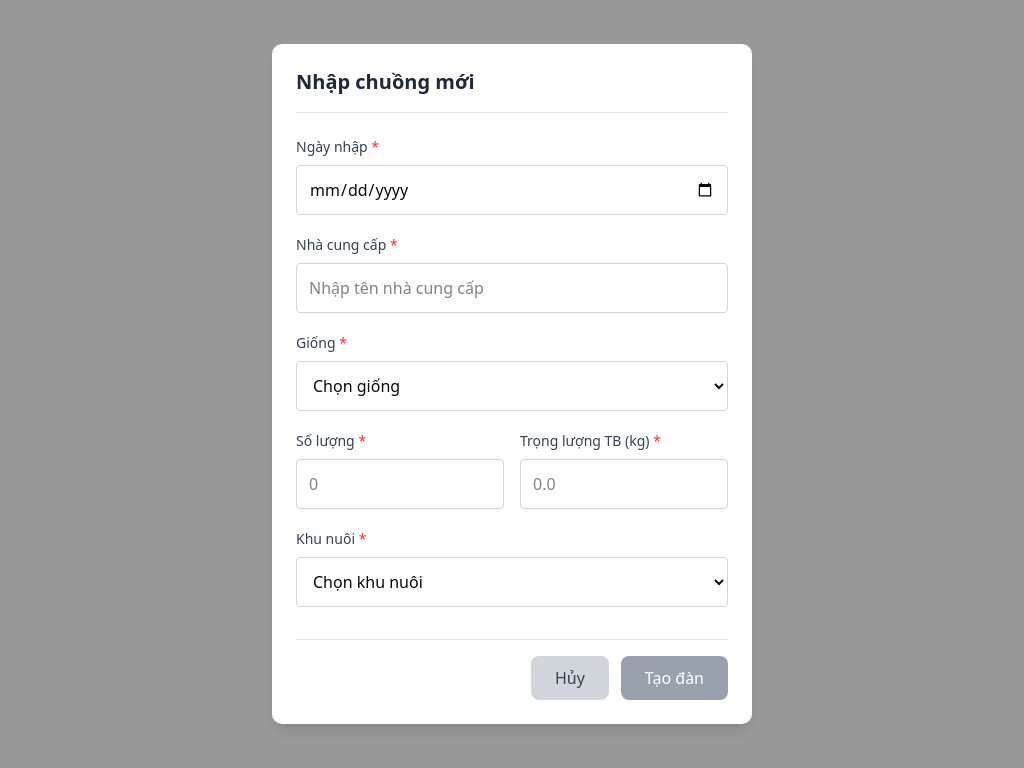
it: U5.2 - Form Nhập chuồng mới & U5.5 - Chỉnh sửa › TC6 - Hiển thị lỗi khi vượt quá sức chứa khu nuôi
Expected: the dropdown below "Giống" is shown, [296, 361, 728, 411]
# Tìm tất cả combobox và lấy cái cuối (khu nuôi)
Select "Khu A (Tối đa: 10000, Còn trống: 7000)" in the dropdown below "Khu nuôi". click: (512, 582)
box: [296, 557, 728, 607]
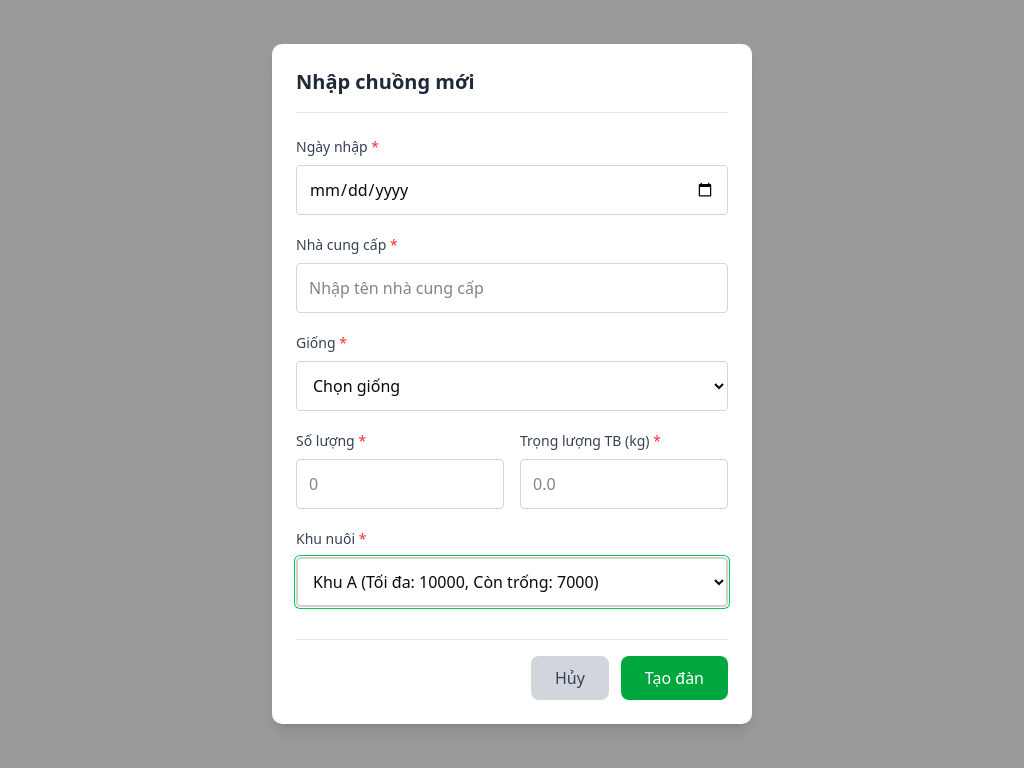
Type "8000" into the number field with placeholder "0". click: (400, 484)
box: [296, 459, 504, 509]
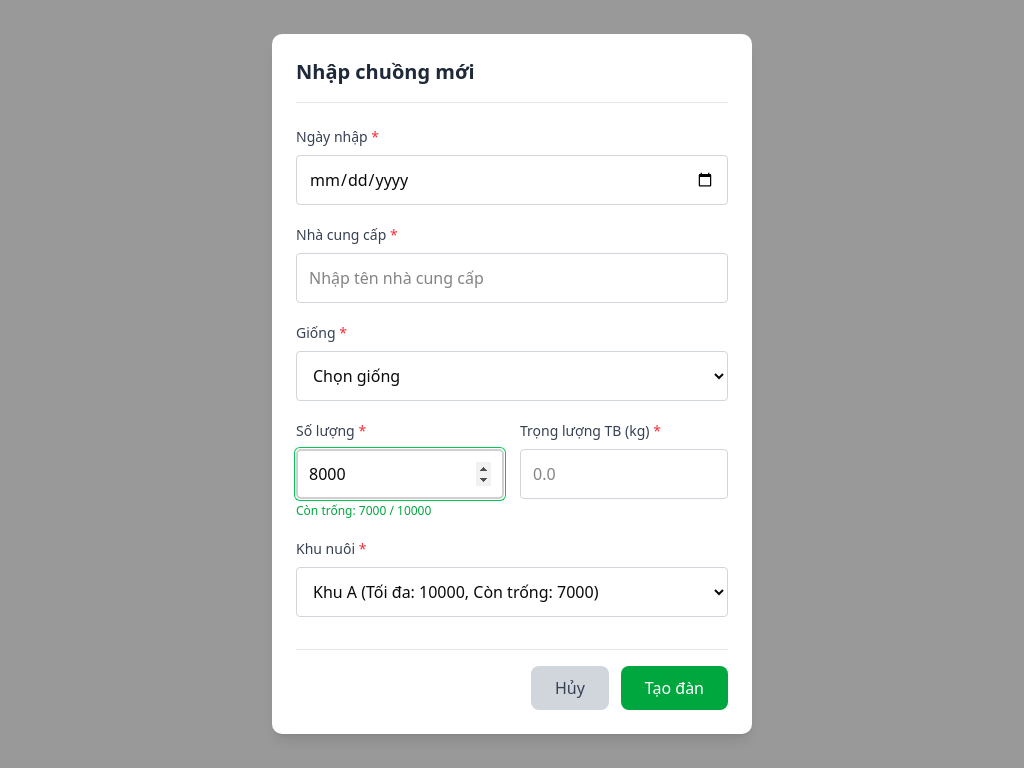
Press Tab
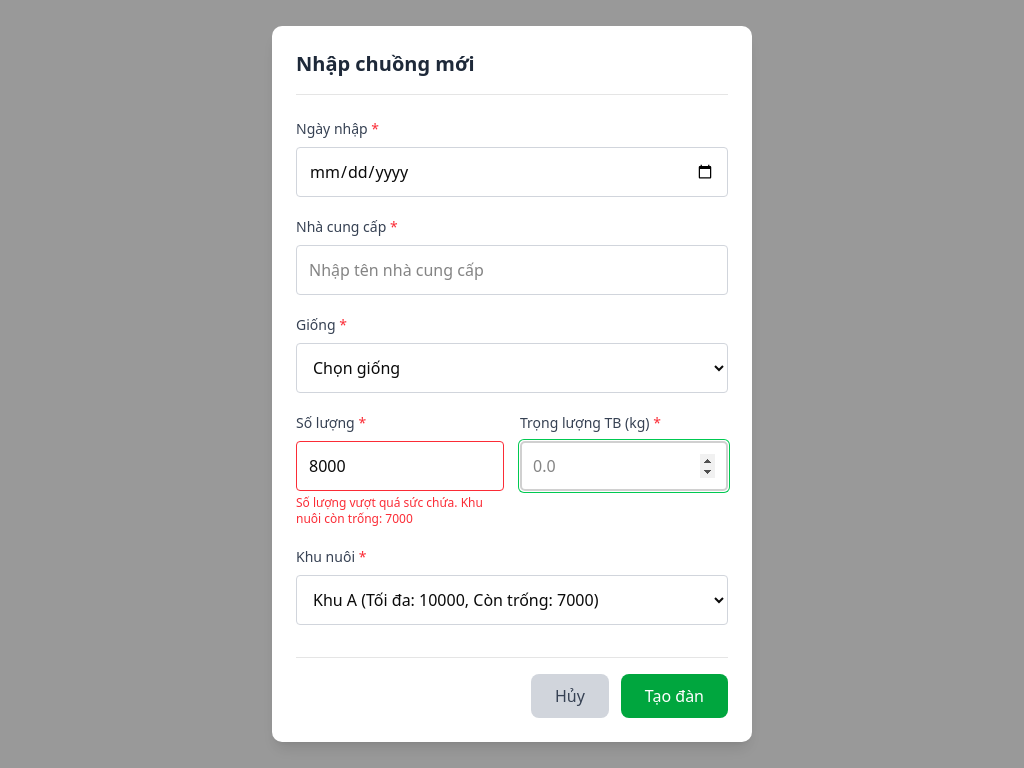
Result: the text "Số lượng vượt quá sức chứa. Khu nuôi còn trống: 7000" is shown at [296, 495, 504, 527]
